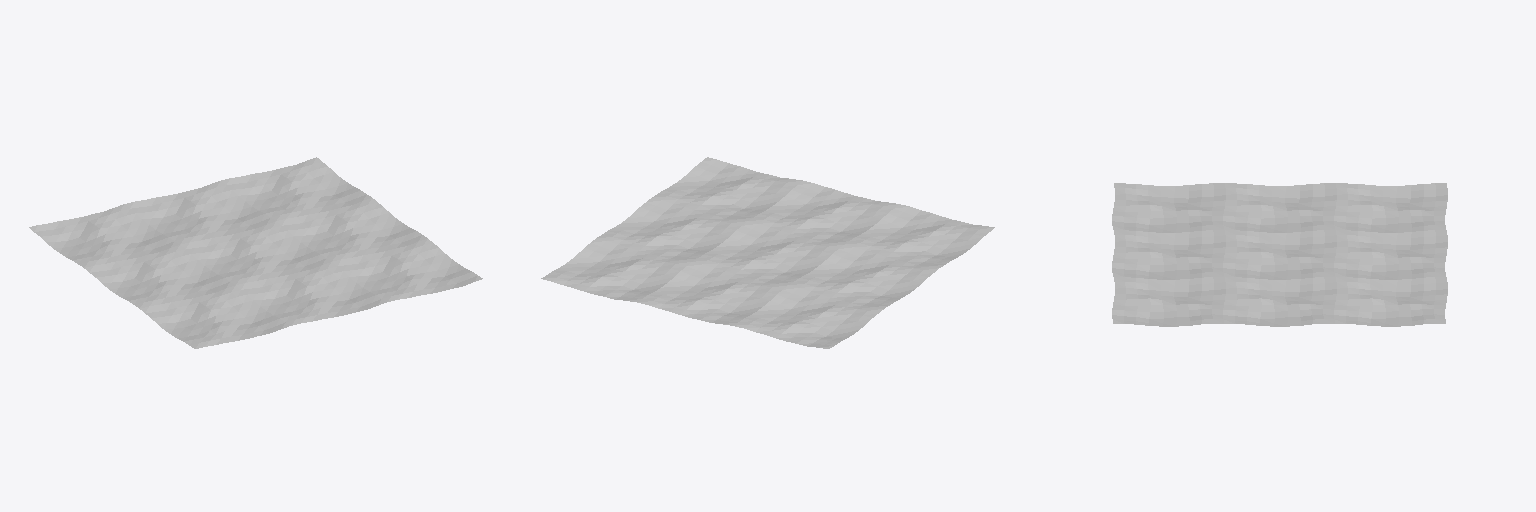
Rendered from ocean_000169.obj.
The picture shows the model from 3 angles: view 1: azimuth 30°, elevation 25°; view 2: azimuth 150°, elevation 25°; view 3: azimuth 270°, elevation 25°; orthographic projection.
Parts seen in each view (by area): view 1: Ocean_Plan.001; view 2: Ocean_Plan.001; view 3: Ocean_Plan.001.
Part boxes in pixels (x1,y1,x2,y2): Ocean_Plan.001: (29,157,482,348); Ocean_Plan.001: (541,157,994,348); Ocean_Plan.001: (1112,183,1447,326).
Size of the model in its own units: 109041 by 1998 by 110090.